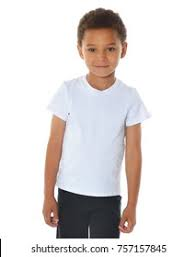person: (75, 7, 128, 81)
